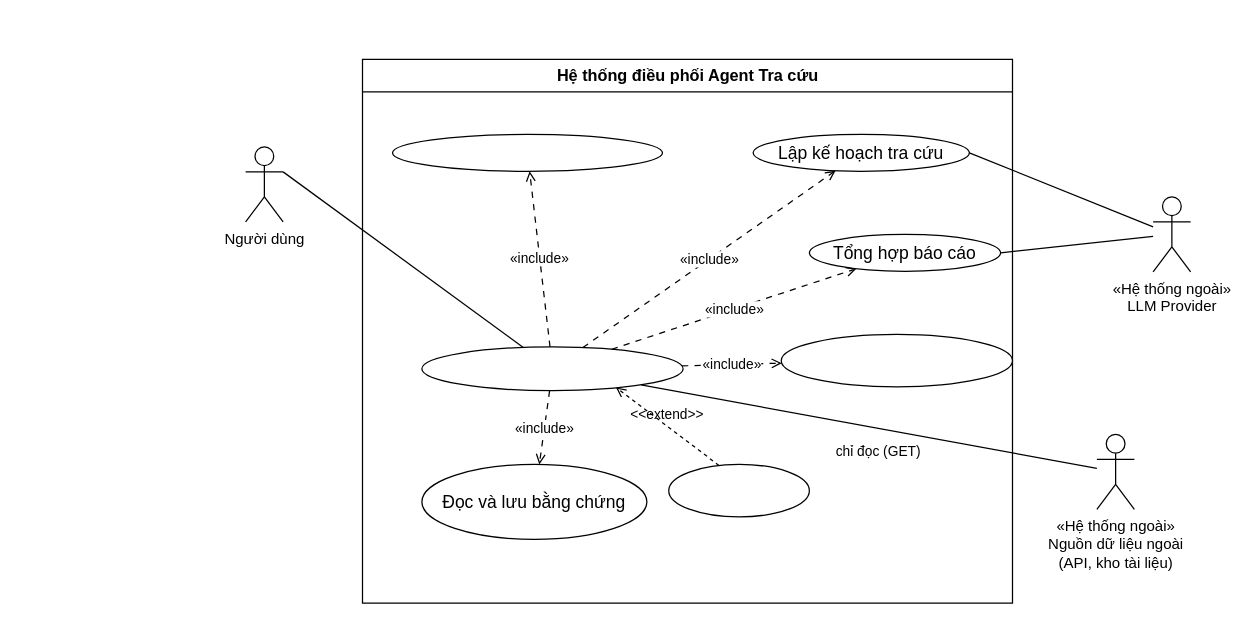
Image size: 1253x625. Some labels were removed from this diagram. Here are the shapes that lost their labels. From the top down, the centre of each, then its label:
point 526,152: Kiểm tra allowlist và ngân sách
point 552,368: UC-01 Gửi yêu cầu tra cứu
point 896,360: Quét dấu hiệu injection
point 738,490: Hủy yêu cầu
